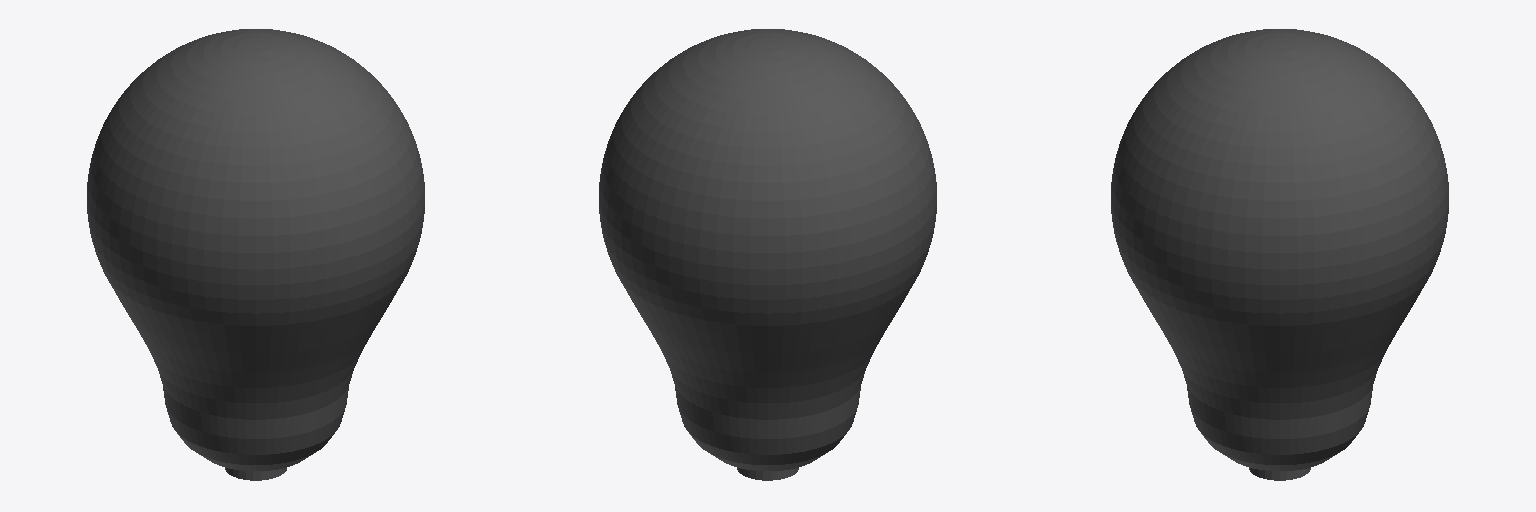
Rendered from bulbOuter.obj.
3 views of the same model, side by side, from view 1: azimuth 30°, elevation 25°; view 2: azimuth 150°, elevation 25°; view 3: azimuth 270°, elevation 25° (orthographic).
Parts seen in each view (by area): view 1: Object01; view 2: Object01; view 3: Object01.
Part boxes in pixels (x1,y1,x2,y2): Object01: (87,29,424,480); Object01: (599,29,936,480); Object01: (1111,29,1448,480).
Size of the model in its own units: 94.68 by 130 by 94.68.